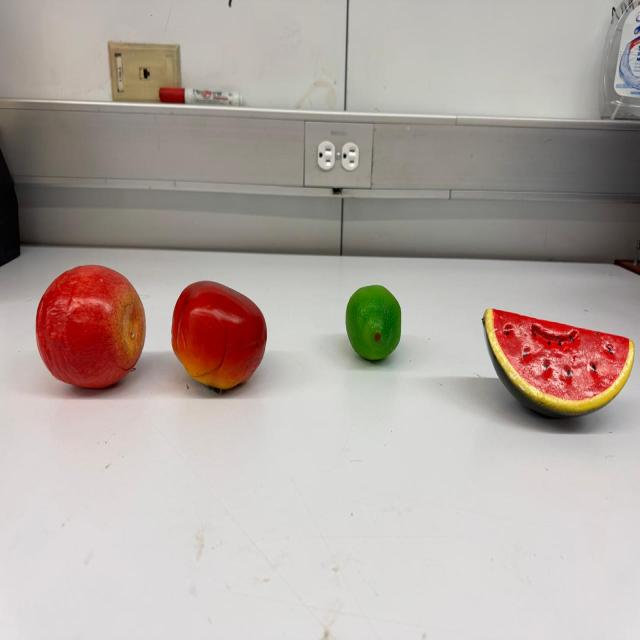apple: (34, 264, 146, 389)
lemon: (345, 285, 402, 362)
tomato: (171, 281, 267, 391)
watermelon: (479, 306, 632, 417)
